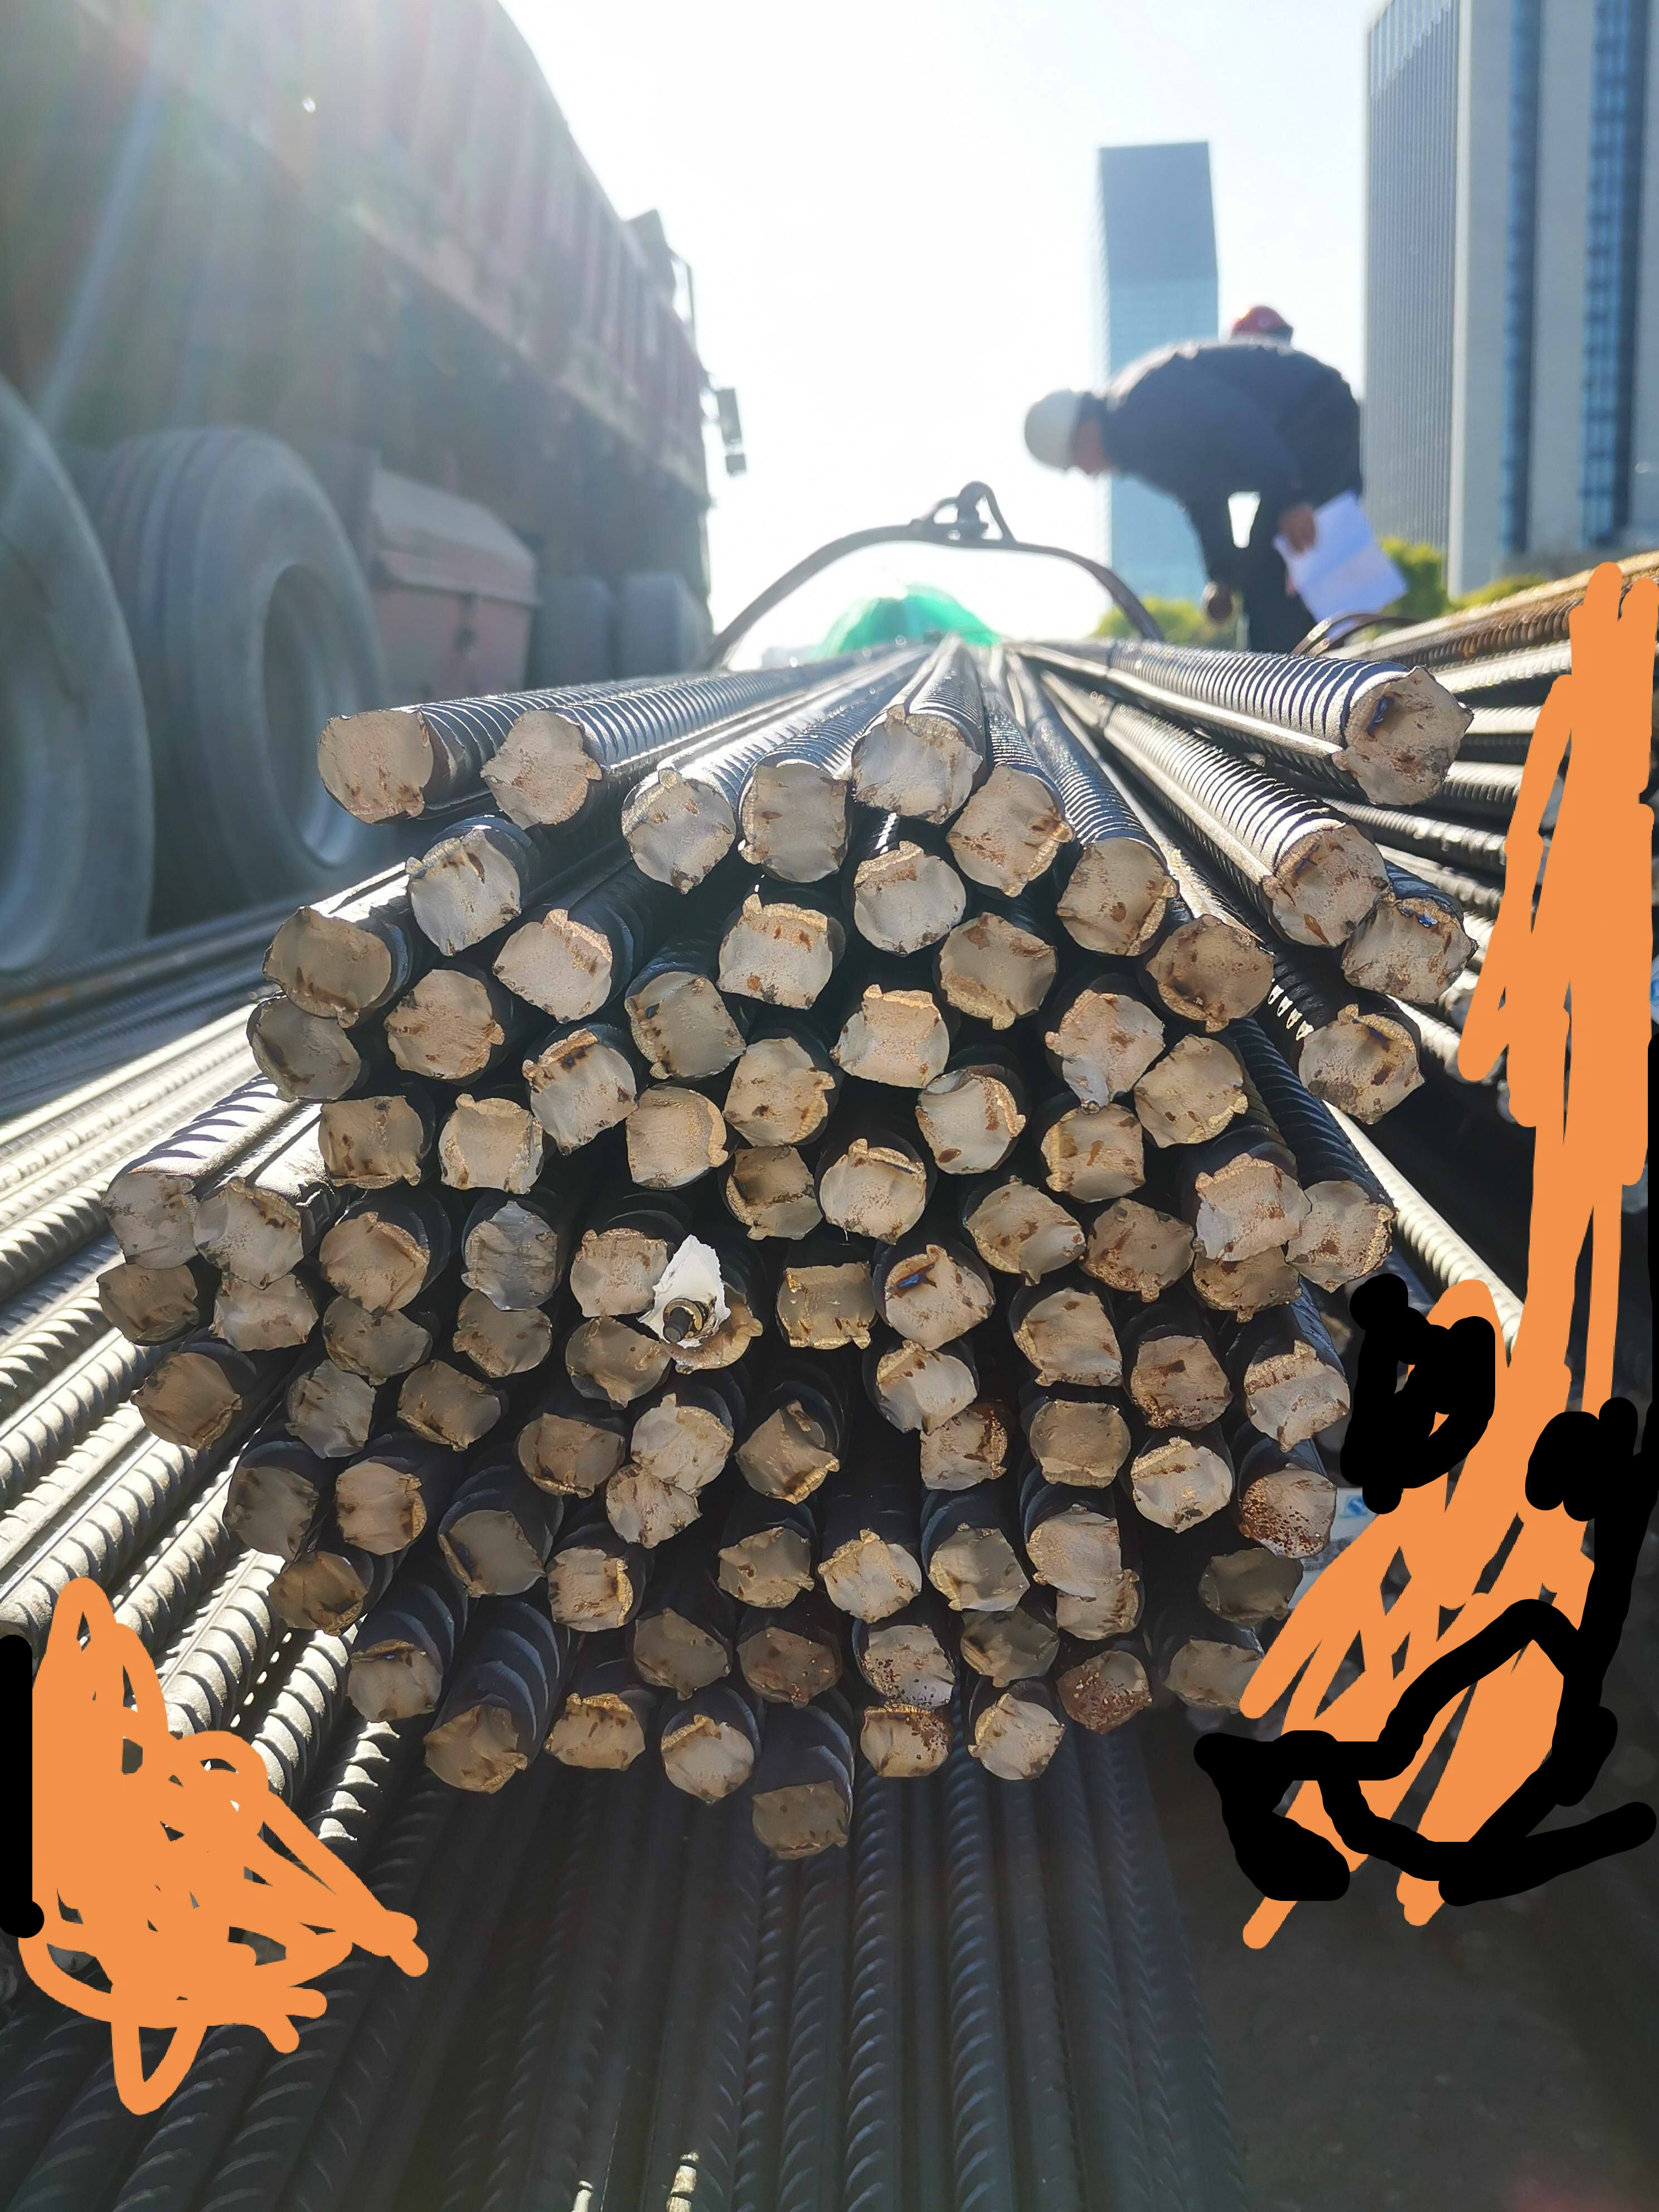rebar: (1328, 663, 1477, 809), (943, 764, 1074, 897), (1260, 819, 1395, 948), (401, 828, 528, 963), (1290, 1002, 1429, 1124), (515, 1025, 641, 1154), (481, 701, 600, 838), (646, 1237, 764, 1375), (851, 707, 988, 826), (312, 703, 442, 829), (731, 756, 853, 889), (1142, 915, 1279, 1029), (1336, 894, 1473, 1007), (492, 910, 624, 1027), (263, 905, 400, 1017), (1044, 987, 1166, 1112), (618, 765, 735, 894), (1055, 836, 1176, 958), (935, 910, 1057, 1030), (713, 892, 837, 1010), (244, 998, 372, 1110), (962, 1175, 1093, 1286), (1131, 1033, 1250, 1153), (384, 968, 506, 1086), (831, 982, 953, 1094), (626, 974, 749, 1083), (1195, 1147, 1312, 1262), (1288, 1174, 1397, 1295), (187, 1180, 312, 1286), (818, 1132, 930, 1250), (852, 841, 968, 954), (722, 1036, 835, 1151), (310, 1090, 430, 1196), (1006, 1286, 1128, 1390), (1240, 1339, 1352, 1453), (314, 1207, 431, 1313), (455, 1198, 566, 1308), (914, 1068, 1027, 1177), (619, 1083, 732, 1192), (884, 1242, 995, 1348), (97, 1166, 212, 1269), (440, 1093, 545, 1201), (1088, 1197, 1197, 1301), (1038, 1098, 1151, 1201), (628, 1391, 734, 1498), (390, 1357, 502, 1457), (127, 1350, 240, 1446), (736, 1405, 846, 1506), (924, 1520, 1033, 1614), (322, 1292, 435, 1385), (559, 1316, 672, 1406), (440, 1505, 546, 1602), (816, 1525, 923, 1623), (871, 1339, 980, 1435), (420, 1703, 530, 1798), (1129, 1332, 1230, 1433), (1023, 1505, 1129, 1601), (516, 1410, 627, 1501), (221, 1464, 322, 1562), (774, 1260, 877, 1355), (1127, 1439, 1233, 1535), (449, 1289, 559, 1379), (1190, 1238, 1303, 1326), (724, 1146, 823, 1245), (283, 1358, 380, 1460), (331, 1457, 429, 1556), (1238, 1462, 1339, 1560), (630, 1607, 733, 1701), (657, 1707, 754, 1806), (1025, 1398, 1132, 1487), (745, 1779, 855, 1864), (208, 1274, 322, 1356), (569, 1228, 667, 1321), (94, 1259, 203, 1343), (967, 1691, 1064, 1785), (600, 1462, 701, 1554), (1195, 1543, 1304, 1625), (735, 1623, 841, 1709), (860, 1623, 956, 1714), (714, 1525, 816, 1612), (1055, 1650, 1155, 1735), (542, 1547, 639, 1633), (545, 1689, 646, 1774), (264, 1556, 368, 1638), (915, 1408, 1011, 1495), (959, 1606, 1060, 1690), (1163, 1638, 1273, 1711), (339, 1648, 438, 1726), (857, 1700, 951, 1779), (1051, 1575, 1144, 1642)
